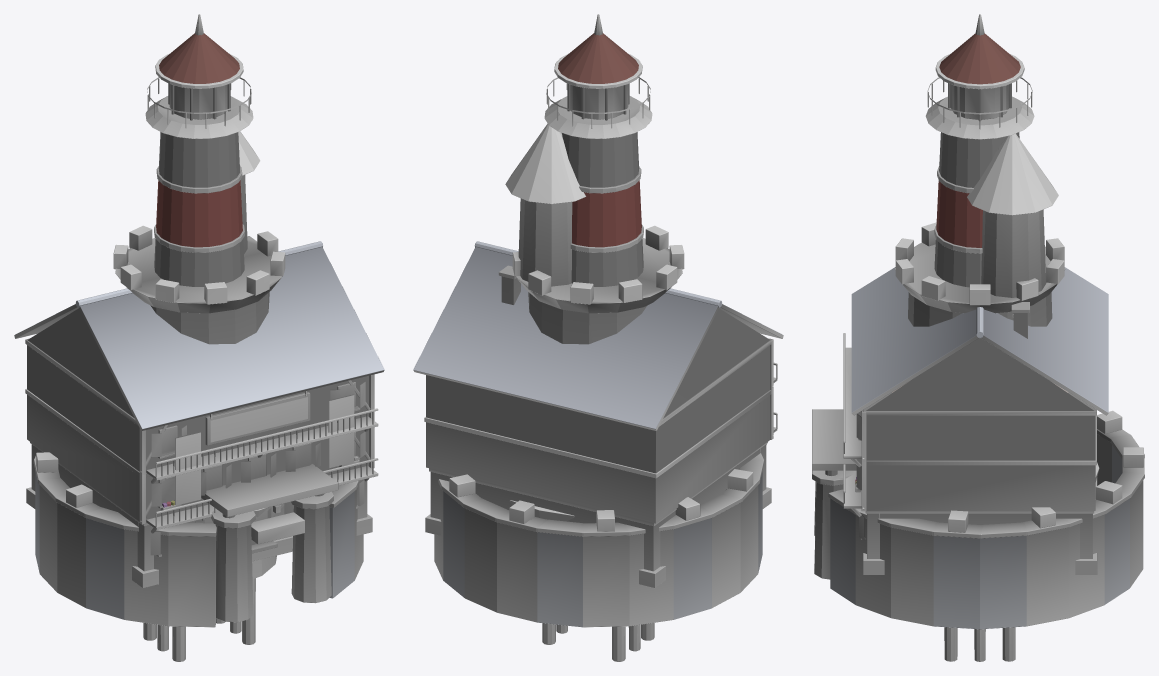
The model's file is town_shared.glb.
3 views of the same model, side by side, from view 1: azimuth 30°, elevation 25°; view 2: azimuth 150°, elevation 25°; view 3: azimuth 270°, elevation 25° (orthographic).
Parts seen in each view (by area): view 1: squadhall_LOD0, fort_LOD0, lighthouse_LOD0, pierHead_LOD0; view 2: squadhall_LOD0, fort_LOD0, lighthouse_LOD0, pierHead_LOD0; view 3: squadhall_LOD0, fort_LOD0, lighthouse_LOD0, pierHead_LOD0.
Boxes of the visible parts, box(x1,y1,x2,y2) form: squadhall_LOD0: box(14, 236, 384, 587); fort_LOD0: box(33, 131, 363, 627); lighthouse_LOD0: box(145, 14, 284, 517); pierHead_LOD0: box(143, 578, 255, 661); squadhall_LOD0: box(413, 241, 783, 587); fort_LOD0: box(434, 123, 764, 627); lighthouse_LOD0: box(509, 14, 652, 521); pierHead_LOD0: box(542, 623, 654, 661); squadhall_LOD0: box(812, 267, 1108, 574); fort_LOD0: box(812, 133, 1144, 629); lighthouse_LOD0: box(925, 14, 1099, 481); pierHead_LOD0: box(944, 627, 1015, 661).
Size of what is drawn, in the model's own units: 20.62 by 42.9 by 20.62.
